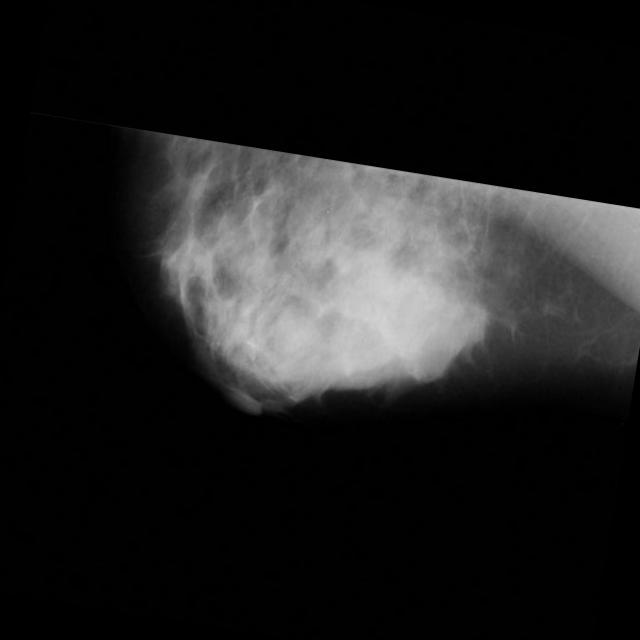CALC: (398, 186, 408, 196)
